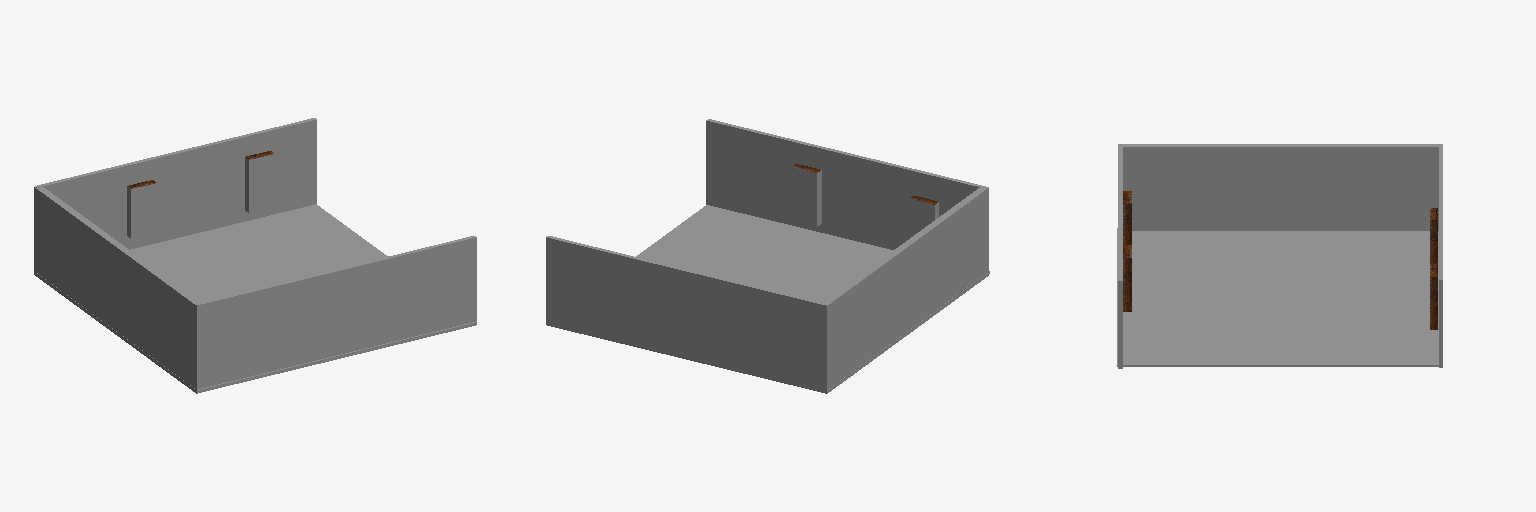
The picture shows the model from 3 angles: view 1: azimuth 30°, elevation 25°; view 2: azimuth 150°, elevation 25°; view 3: azimuth 270°, elevation 25°; orthographic projection.
Parts seen in each view (by area): view 1: Cube.004_Cube.006, Cube.003, Cube.001_Cube.002, Cube.005_Cube.001; view 2: Cube.003, Cube.004_Cube.006, Cube.001_Cube.002, Cube.005_Cube.001; view 3: Cube.005_Cube.001, Cube.001_Cube.002, Cube.004_Cube.006, Cube.003.
Part boxes in pixels (left/top/right/bottom): Cube.004_Cube.006: left=196, top=236, right=476, bottom=393; Cube.003: left=35, top=118, right=316, bottom=249; Cube.001_Cube.002: left=34, top=187, right=202, bottom=392; Cube.005_Cube.001: left=35, top=204, right=476, bottom=392; Cube.003: left=546, top=236, right=827, bottom=393; Cube.004_Cube.006: left=706, top=119, right=985, bottom=249; Cube.001_Cube.002: left=823, top=186, right=988, bottom=393; Cube.005_Cube.001: left=636, top=205, right=989, bottom=391; Cube.005_Cube.001: left=1117, top=228, right=1438, bottom=366; Cube.001_Cube.002: left=1119, top=144, right=1438, bottom=230; Cube.004_Cube.006: left=1118, top=144, right=1131, bottom=368; Cube.003: left=1430, top=144, right=1442, bottom=367.
Size of the model in its own units: 61.16 by 18.39 by 61.5.
Materials: 4 (1 with a texture image).